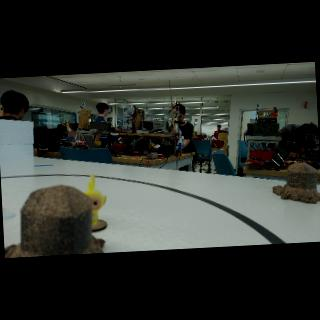teletubby: (84, 174, 106, 226)
